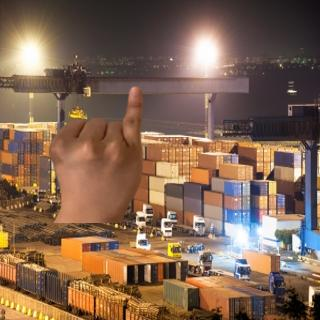FINE: (44, 79, 151, 211)
